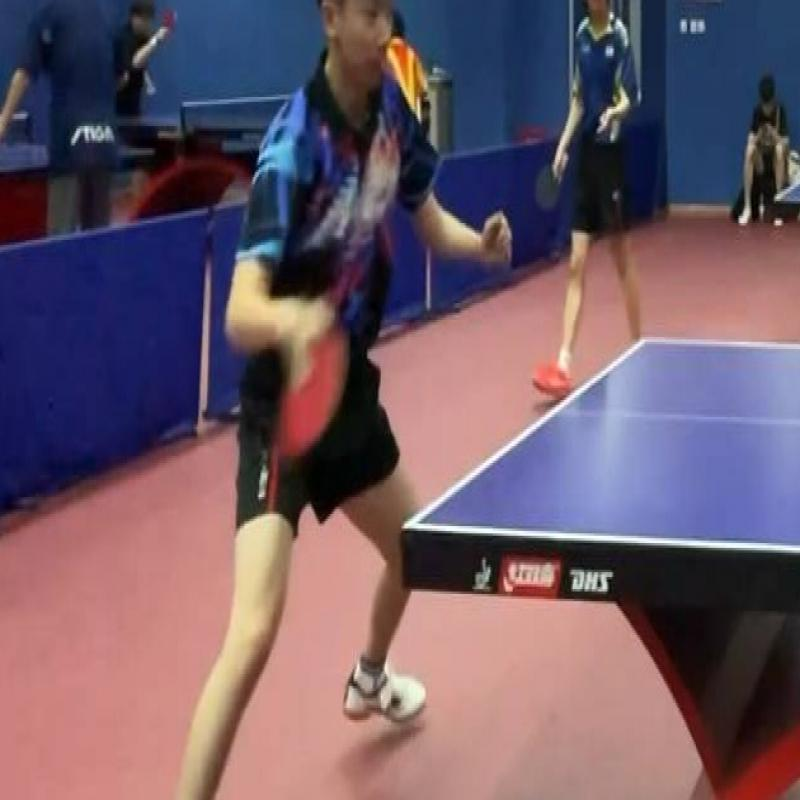bats: (274, 332, 350, 463)
